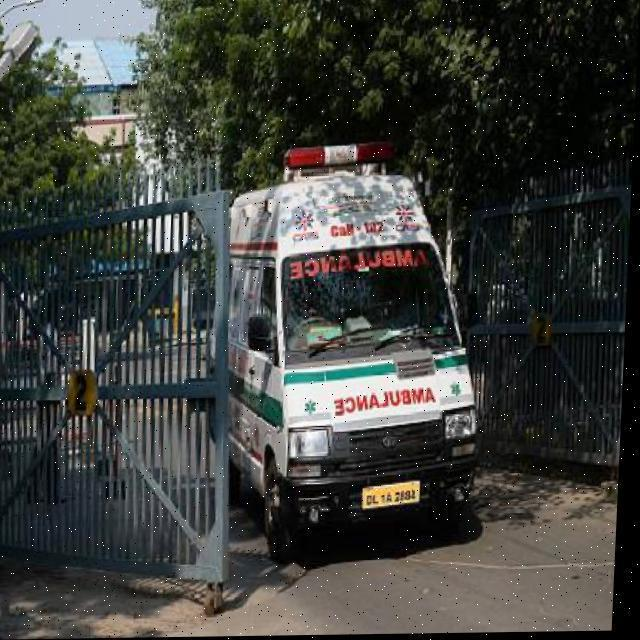Ambulance: (0, 135, 503, 570), (0, 329, 626, 638)
